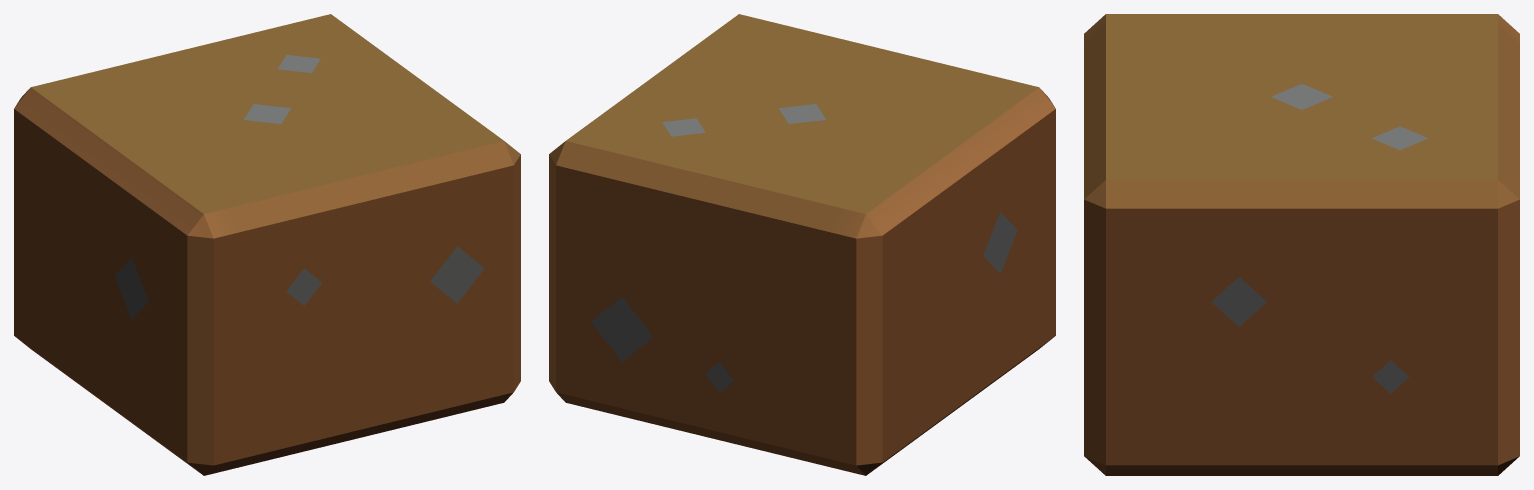
Rendered from m_kub_dirt_cubeMid.FBX.
The picture shows the model from 3 angles, left to right: view 1: azimuth 30°, elevation 25°; view 2: azimuth 150°, elevation 25°; view 3: azimuth 270°, elevation 25°; orthographic projection. The views are drawn at different scales.
Visible parts, largest first — view 1: m_kub_dirt_cubeMid; view 2: m_kub_dirt_cubeMid; view 3: m_kub_dirt_cubeMid.
Part boxes in pixels (bbox=[...]): m_kub_dirt_cubeMid: bbox=[14, 14, 520, 475]; m_kub_dirt_cubeMid: bbox=[549, 14, 1055, 475]; m_kub_dirt_cubeMid: bbox=[1084, 14, 1519, 475].
Size of the model in its own units: 2 by 1.5 by 2.
